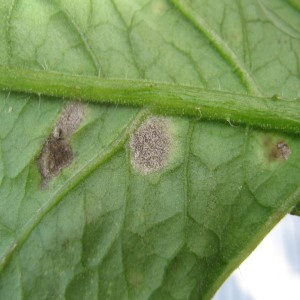cladosporium: (35, 132, 75, 186), (261, 134, 290, 167)
oidio: (129, 113, 174, 175), (55, 98, 84, 136)
